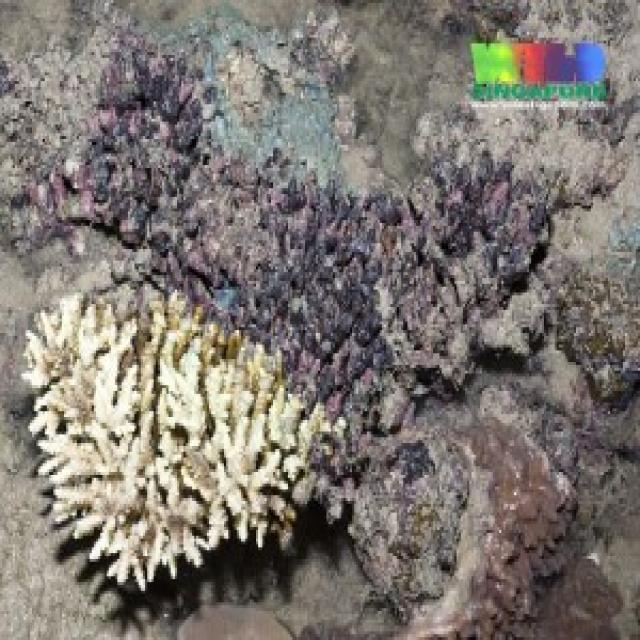Bleached: (22, 293, 330, 589)
Healthy: (27, 36, 549, 432)
